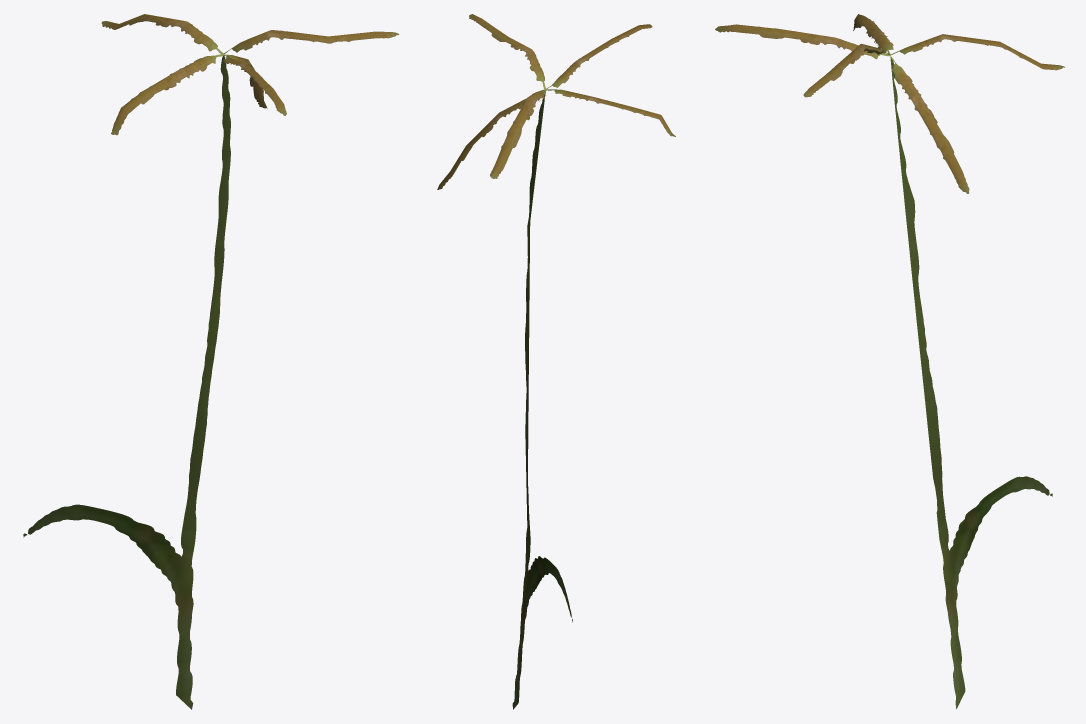
3 renders of one model, left to right at view 1: azimuth 30°, elevation 25°; view 2: azimuth 150°, elevation 25°; view 3: azimuth 270°, elevation 25°, orthographic. The views are drawn at different scales.
Parts seen in each view (by area): view 1: grass_bermuda_01__c_lod0; view 2: grass_bermuda_01__c_lod0; view 3: grass_bermuda_01__c_lod0.
Part boxes in pixels (box(x1,y1,x2,y2)): grass_bermuda_01__c_lod0: box(23, 14, 399, 709); grass_bermuda_01__c_lod0: box(437, 14, 675, 709); grass_bermuda_01__c_lod0: box(715, 14, 1064, 709).
Bounding box in the file's own units: 0.0372 × 0.0923 × 0.0445.
Materials: 1 (1 with a texture image).
